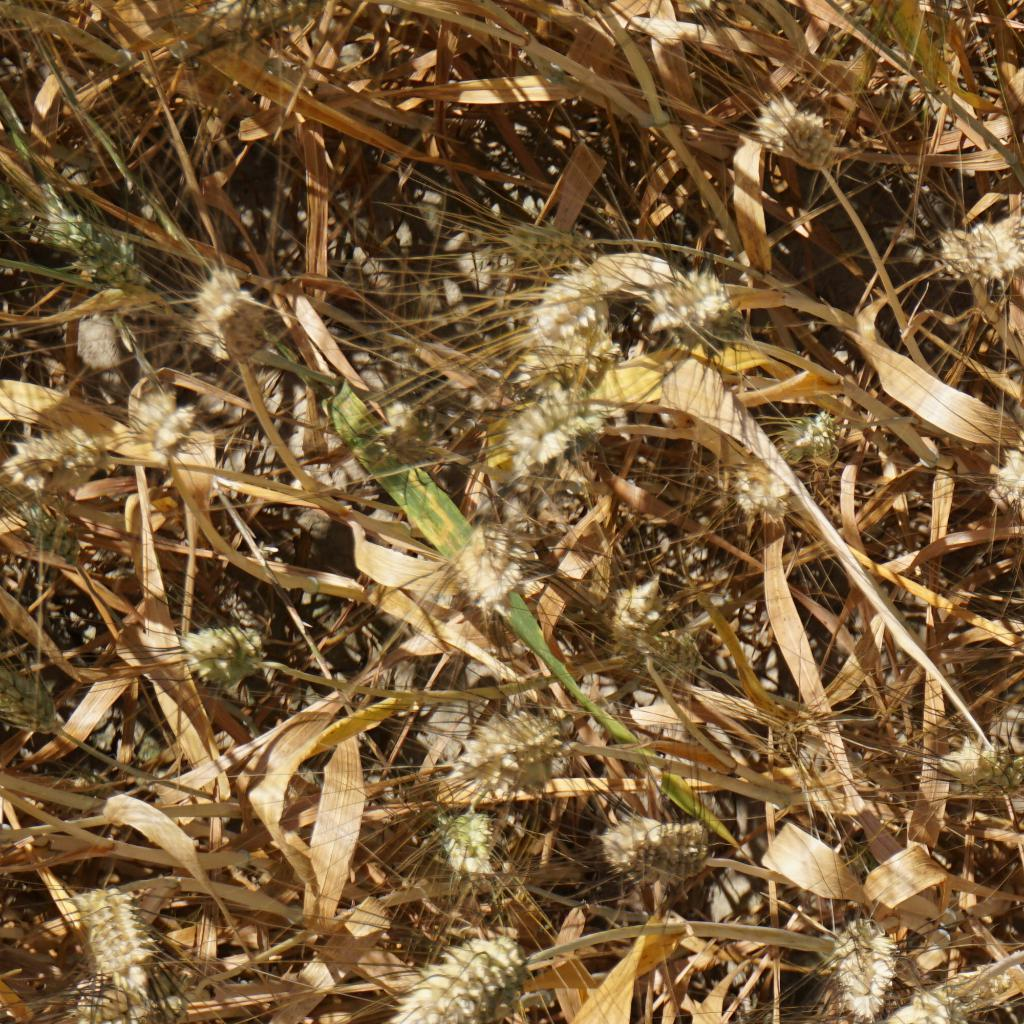0-0: (598, 810, 732, 892), (490, 367, 598, 459), (399, 943, 520, 1024), (39, 193, 144, 285), (79, 883, 173, 984), (819, 917, 908, 1022), (452, 708, 570, 784), (177, 604, 263, 689), (753, 111, 860, 177), (453, 515, 526, 610), (636, 263, 736, 329), (947, 716, 1024, 797), (504, 217, 597, 284), (12, 428, 111, 487), (371, 393, 448, 467), (56, 967, 150, 1024), (116, 379, 196, 440), (0, 665, 68, 736), (444, 810, 512, 879), (931, 224, 1024, 272), (638, 620, 712, 676), (735, 455, 804, 515), (786, 405, 840, 462), (876, 994, 975, 1024), (988, 425, 1024, 507), (190, 267, 248, 316)
